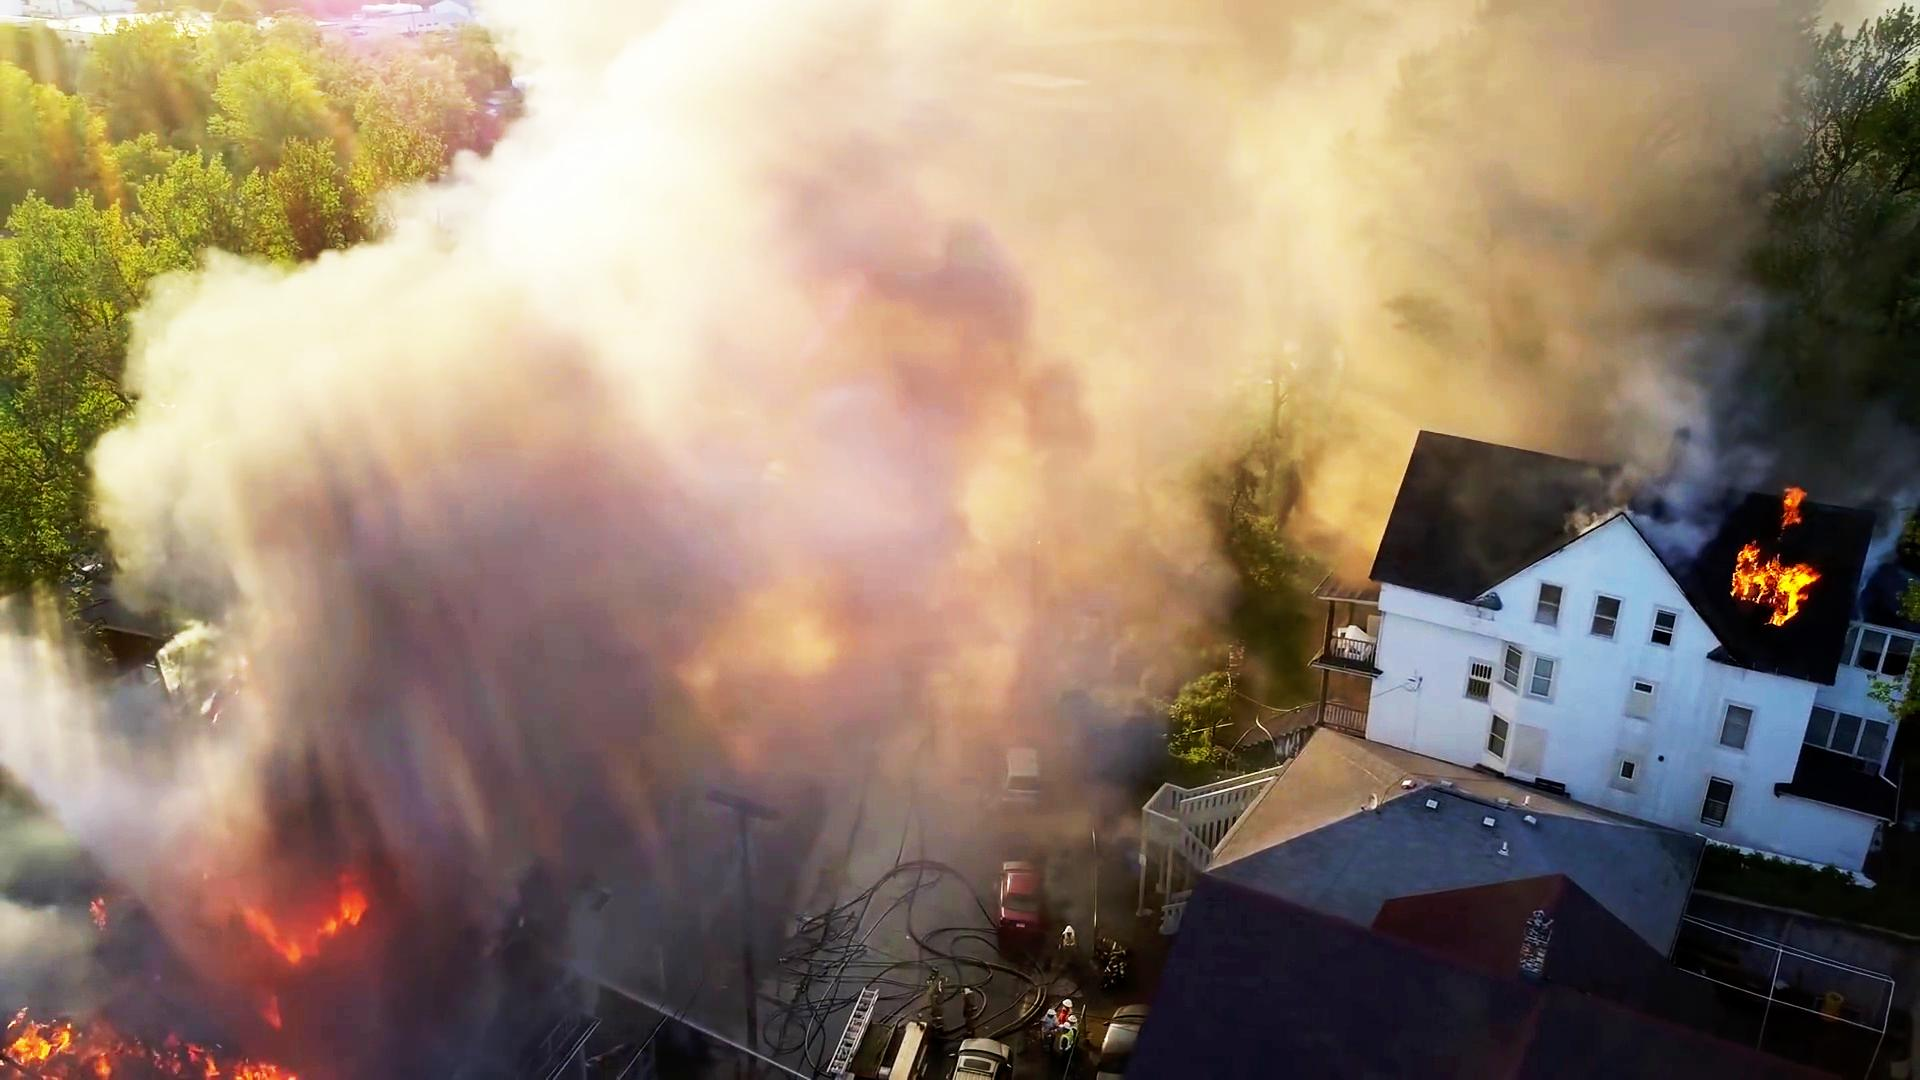fire: (1727, 476, 1821, 625)
smoke: (591, 13, 1540, 352), (406, 429, 715, 934)
